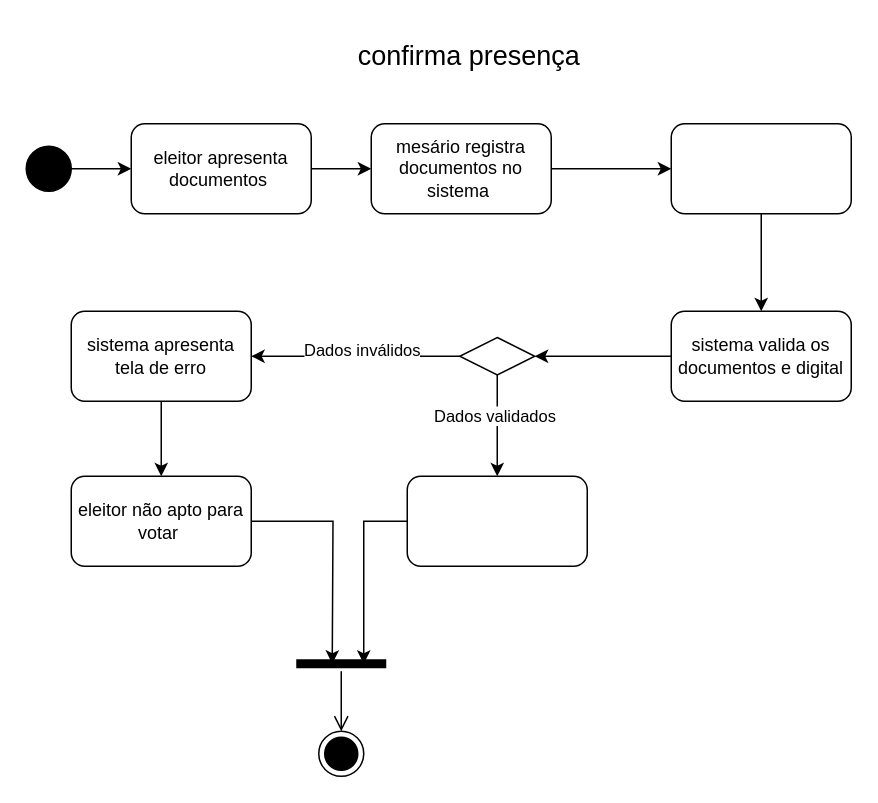
The diagram is 878 pixels wide and 803 high, and some of its shapes have lost their labels. The centre of each missing label's shape, as x and y in pixels:
"eleitor coloca digital no leitor" belongs at (760,168).
"sistema registra presença" belongs at (496,520).
